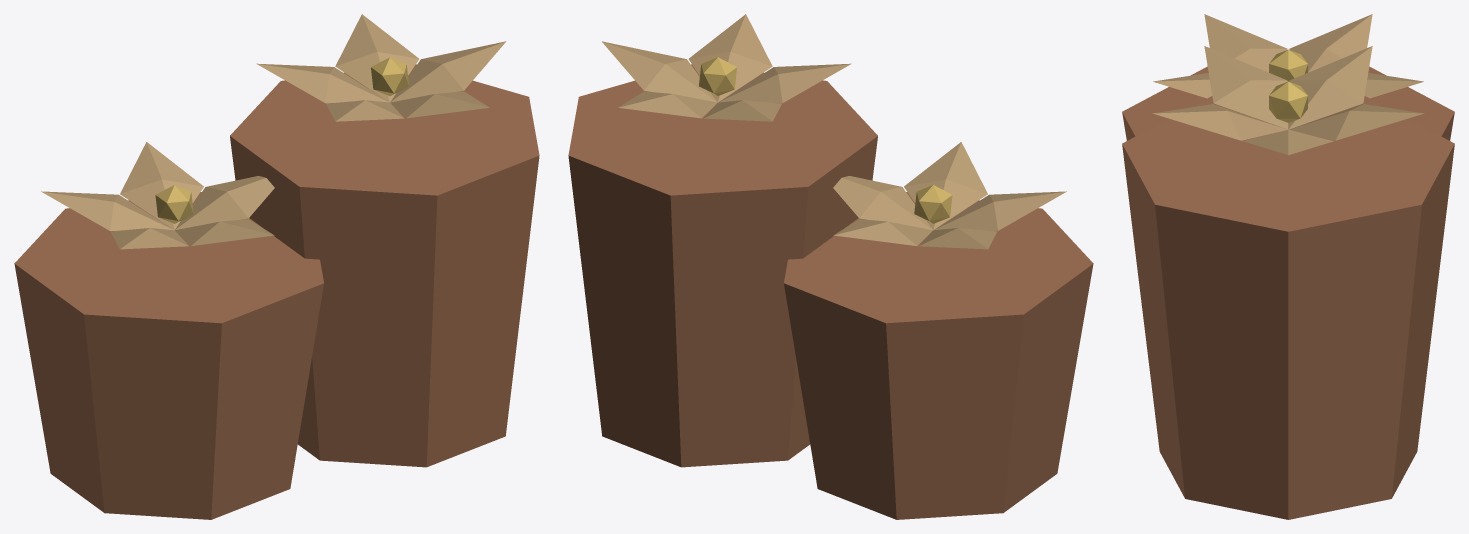
File: map-boundaries-v5__village_04.glb
The picture shows the model from 3 angles, left to right: view 1: azimuth 30°, elevation 25°; view 2: azimuth 150°, elevation 25°; view 3: azimuth 270°, elevation 25°; orthographic projection. The views are drawn at different scales.
Visible parts, largest first — view 1: village_04; view 2: village_04; view 3: village_04.
Boxes of the visible parts, x1=… form: village_04: x1=14, y1=14, x2=539, y2=519; village_04: x1=568, y1=14, x2=1093, y2=519; village_04: x1=1122, y1=14, x2=1454, y2=519.
Bounding box in the file's own units: 1.07 × 0.7666 × 0.6045.
